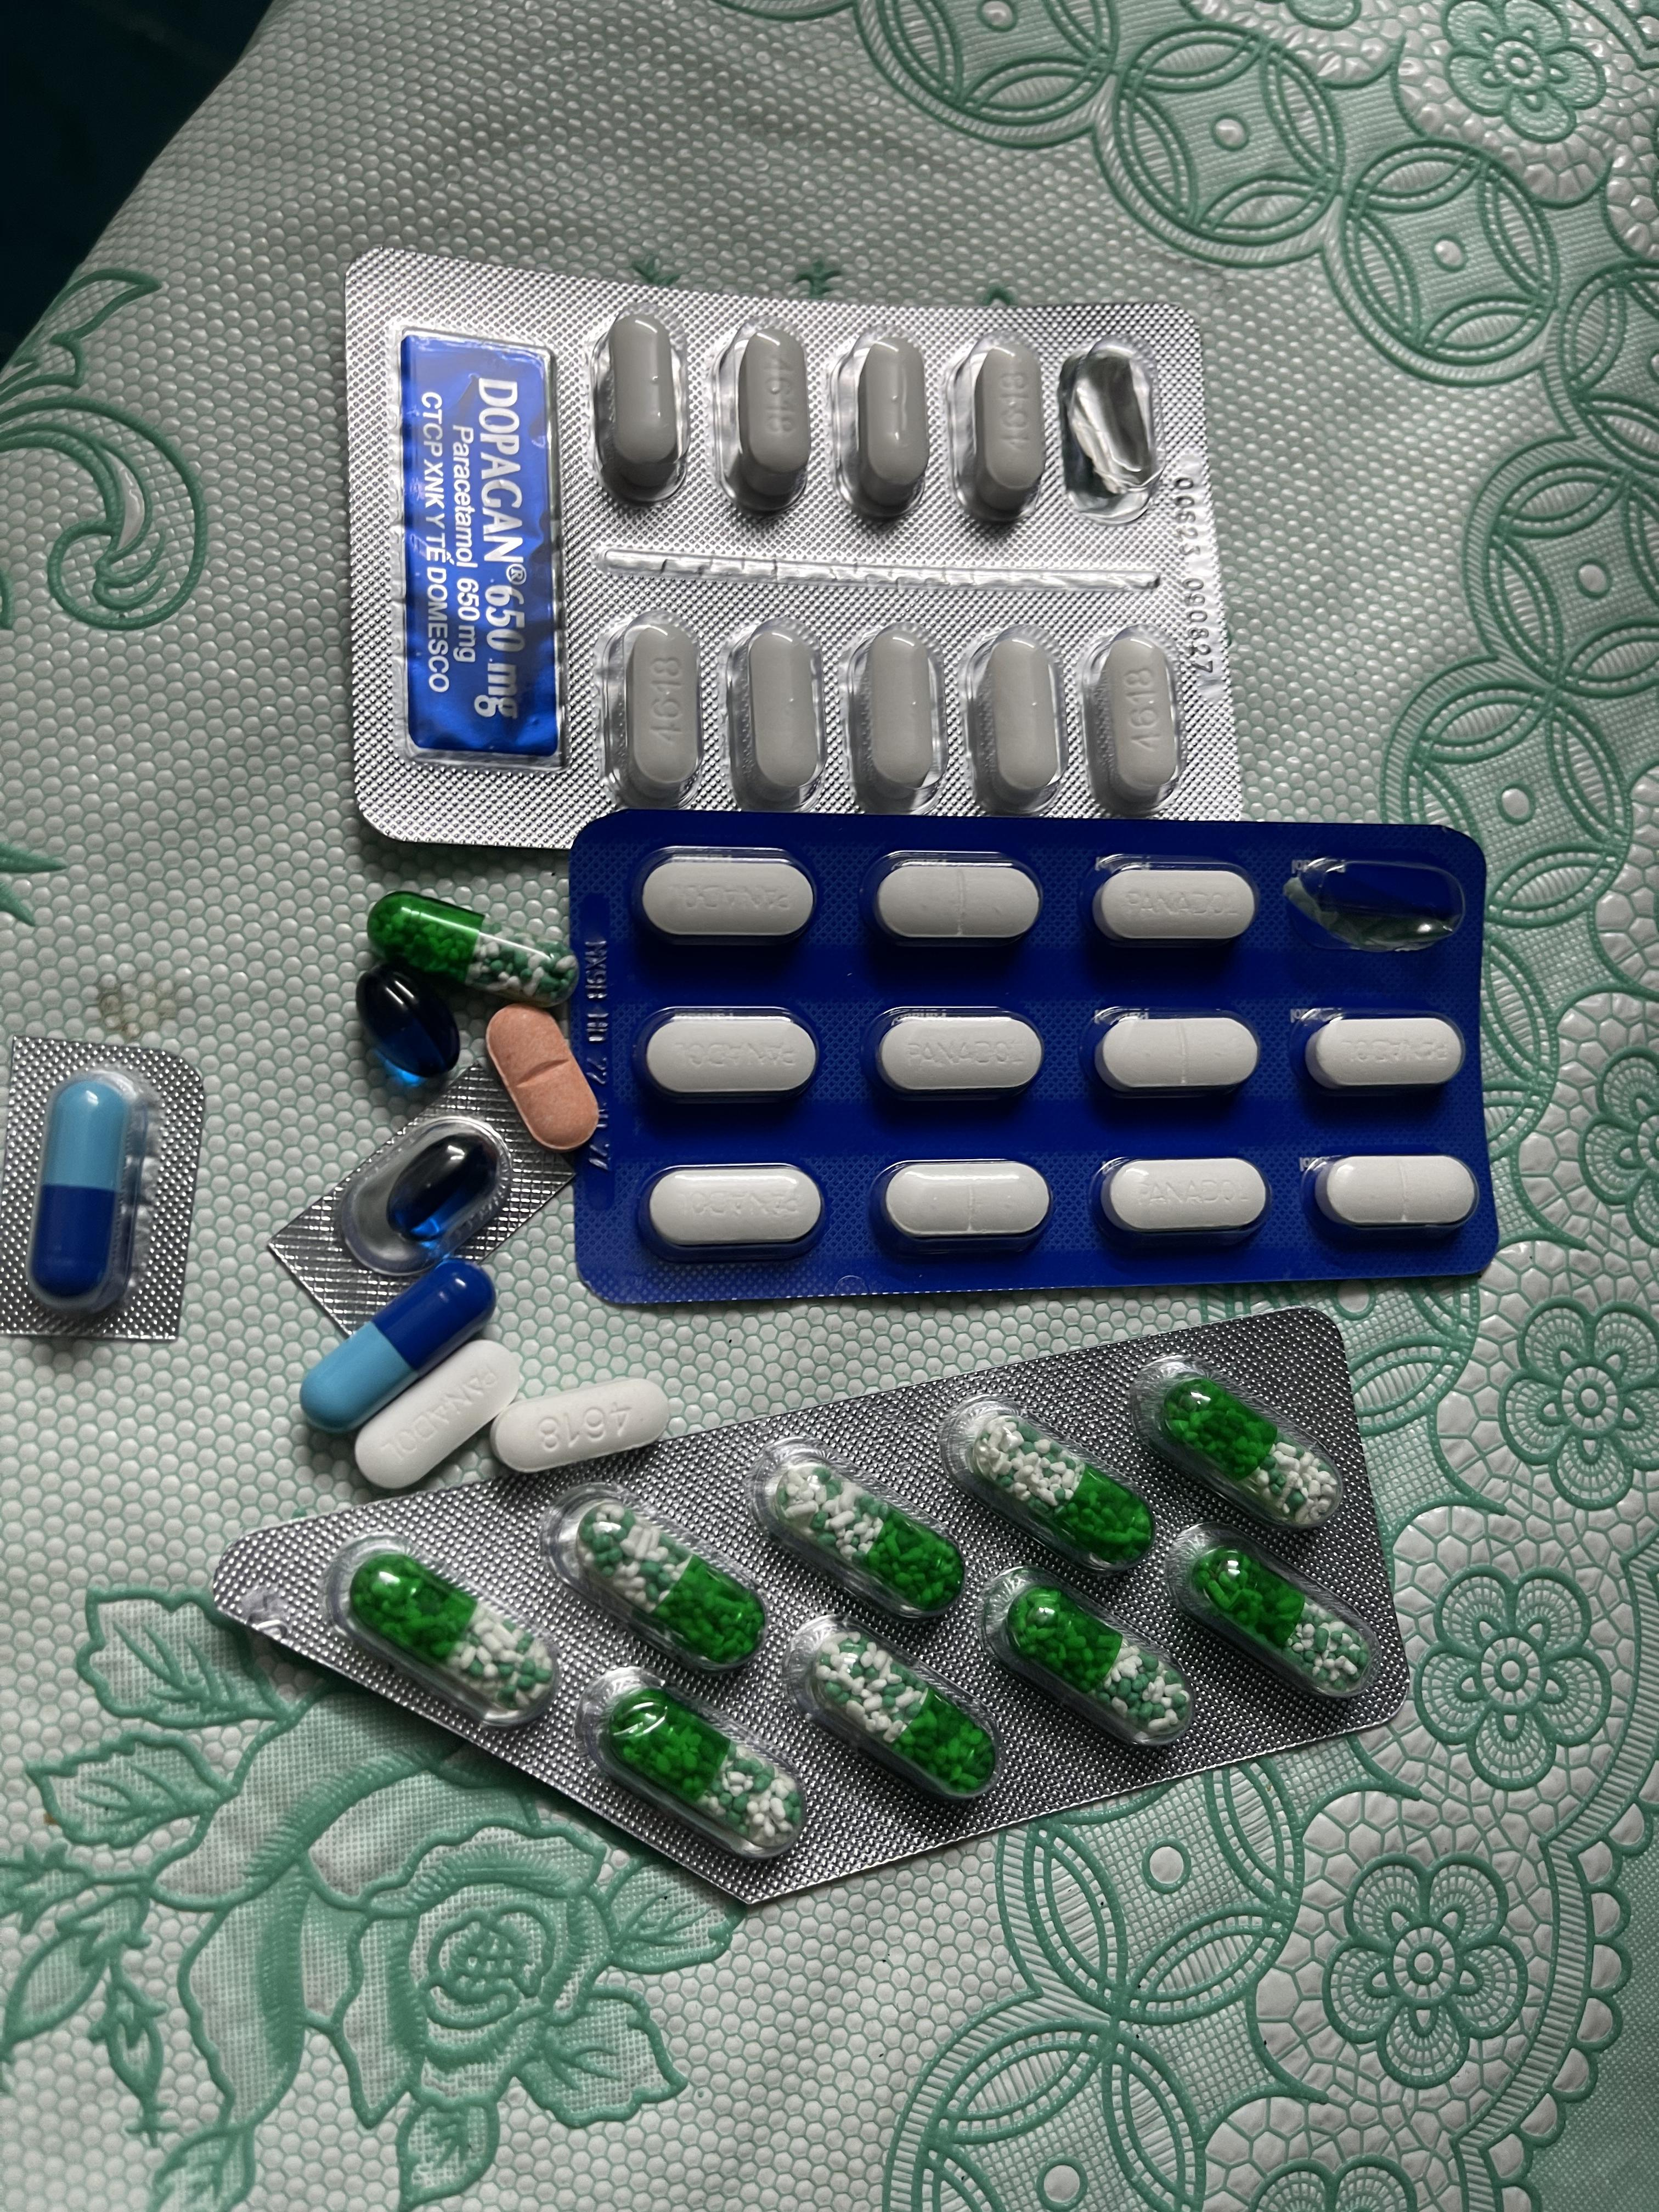Lincomyxin_500mg: (354, 961, 465, 1087), (387, 1136, 497, 1244)
Loratadine_10mg: (484, 1003, 598, 1150)
Paracetamol_350mg: (352, 1350, 525, 1487), (640, 1163, 826, 1261), (877, 1158, 1058, 1258), (638, 1007, 819, 1106), (638, 852, 819, 948), (868, 852, 1046, 946), (871, 1010, 1046, 1103), (1098, 1158, 1270, 1251), (1305, 1153, 1478, 1240), (1093, 1010, 1260, 1099), (1298, 1012, 1469, 1096), (1091, 864, 1253, 946)
Paracetamol_500mg: (596, 613, 704, 803), (965, 625, 1073, 812), (711, 317, 812, 516), (946, 331, 1049, 526), (725, 618, 830, 806), (843, 624, 950, 806), (831, 326, 929, 523), (589, 307, 687, 502), (1080, 627, 1180, 812), (491, 1372, 669, 1472)
Paracetamol_650mg: (809, 1630, 1006, 1799), (352, 1554, 556, 1712), (601, 1689, 800, 1846), (568, 1500, 760, 1660), (1006, 1587, 1188, 1749), (967, 1409, 1155, 1562), (767, 1468, 958, 1615), (1152, 1378, 1337, 1526), (1185, 1547, 1368, 1695), (369, 888, 580, 1008)
pill: (298, 1258, 502, 1426), (28, 1069, 146, 1310)
